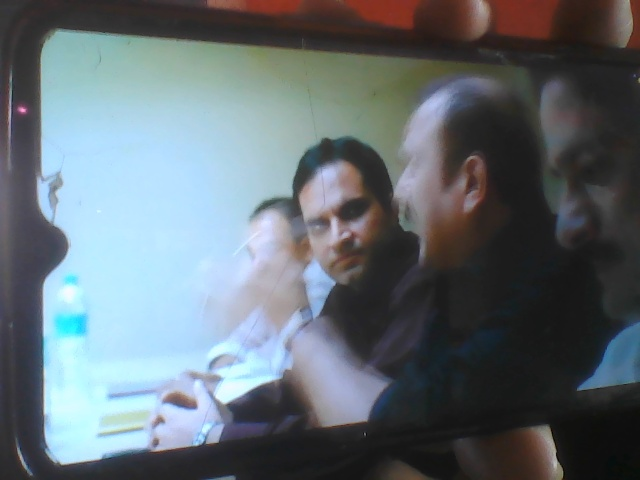fake: (294, 117, 422, 298)
